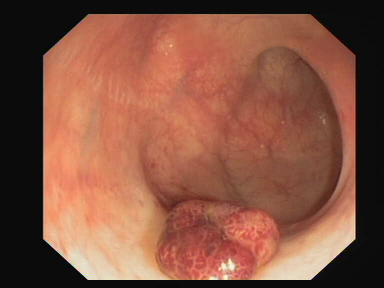polyp: (142, 180, 293, 287)
